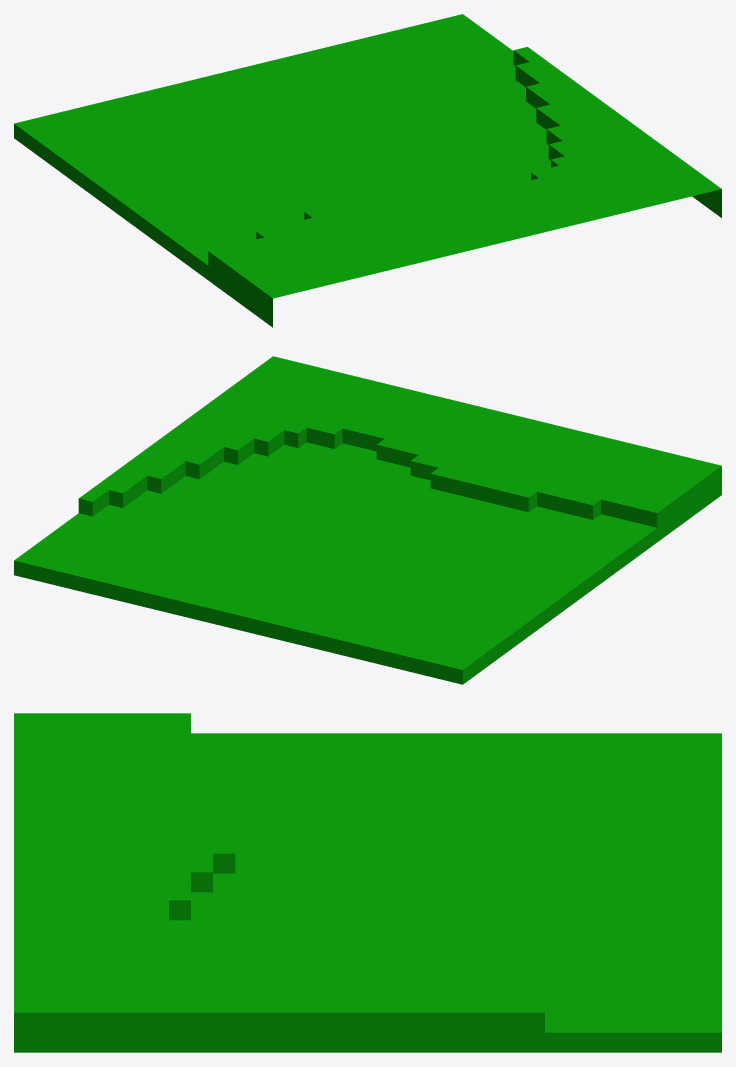
Rendered from Slant5.fbx.
The picture shows the model from 3 angles, top to bottom: view 1: azimuth 30°, elevation 25°; view 2: azimuth 150°, elevation 25°; view 3: azimuth 270°, elevation 25°; orthographic projection. The views are drawn at different scales.
Visible parts, largest first — view 1: Matrix; view 2: Matrix; view 3: Matrix.
Part boxes in pixels (x1=…): Matrix: x1=14, y1=14, x2=721, y2=327; Matrix: x1=14, y1=356, x2=721, y2=684; Matrix: x1=14, y1=713, x2=721, y2=1052.
Size of the model in its own units: 32 by 2 by 32.
Materials: 1 (1 with a texture image).
